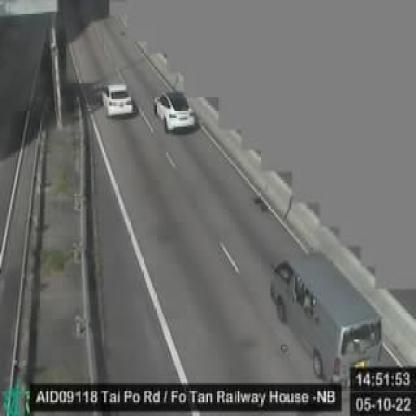Car: (268, 250, 382, 383), (152, 94, 195, 130), (103, 82, 134, 112)
